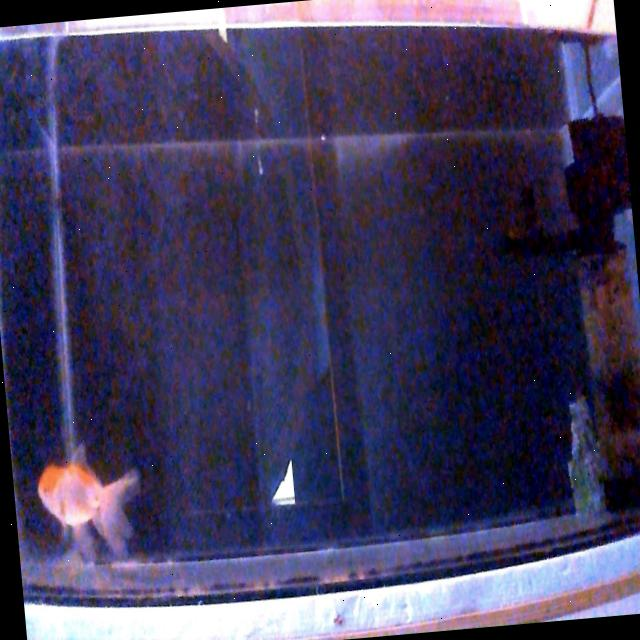fish: (35, 446, 146, 566)
